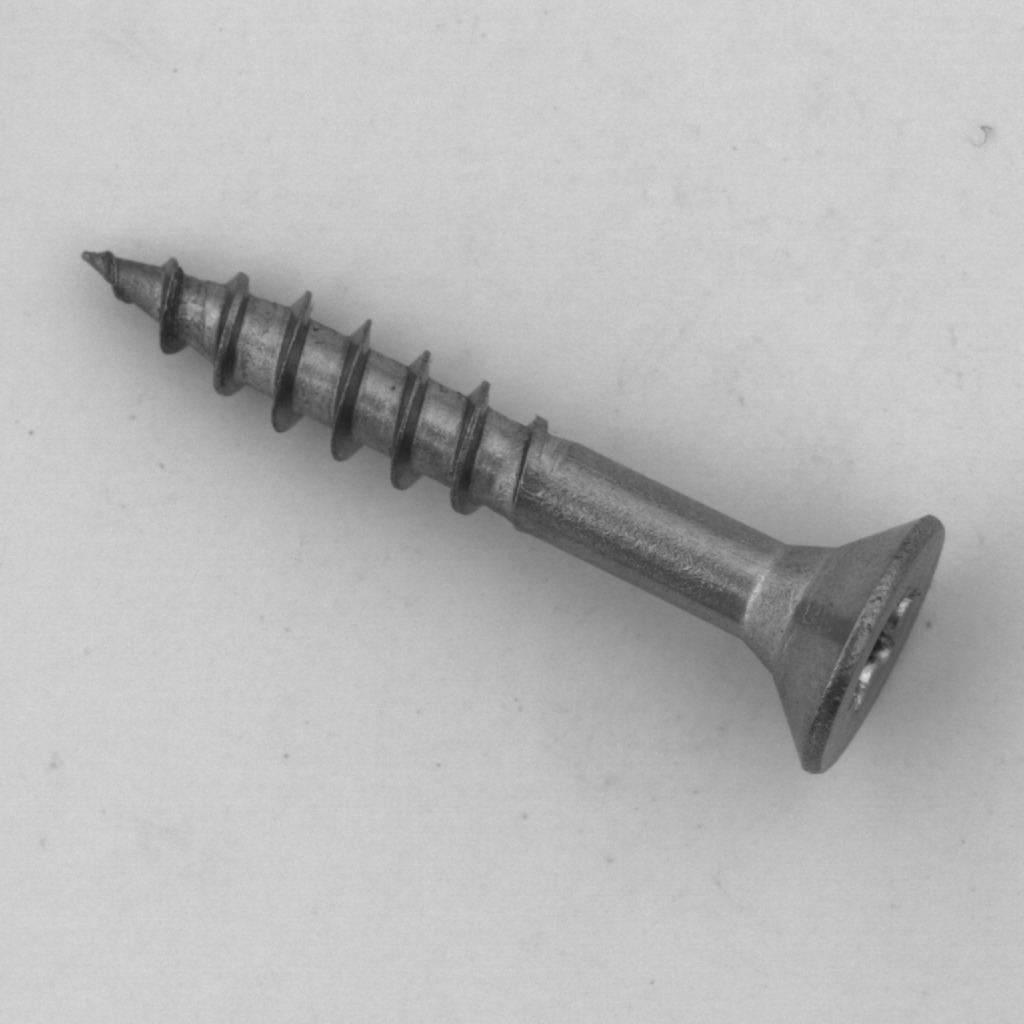good: (54, 226, 962, 790)
